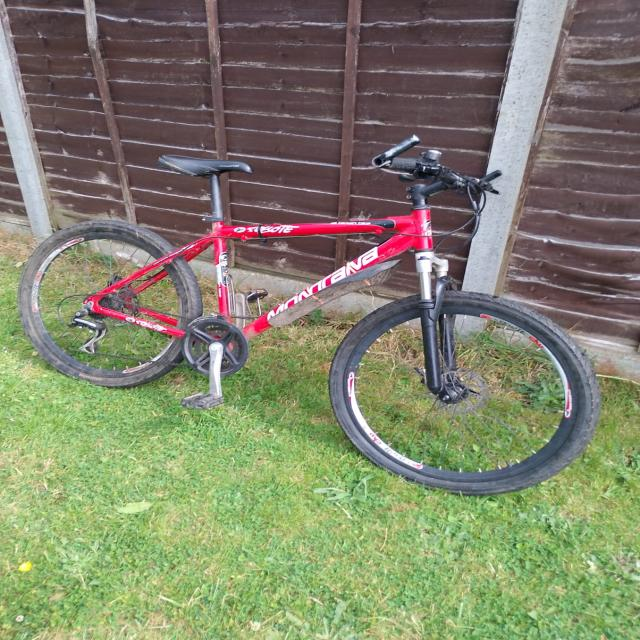bicycle: (25, 127, 640, 504)
